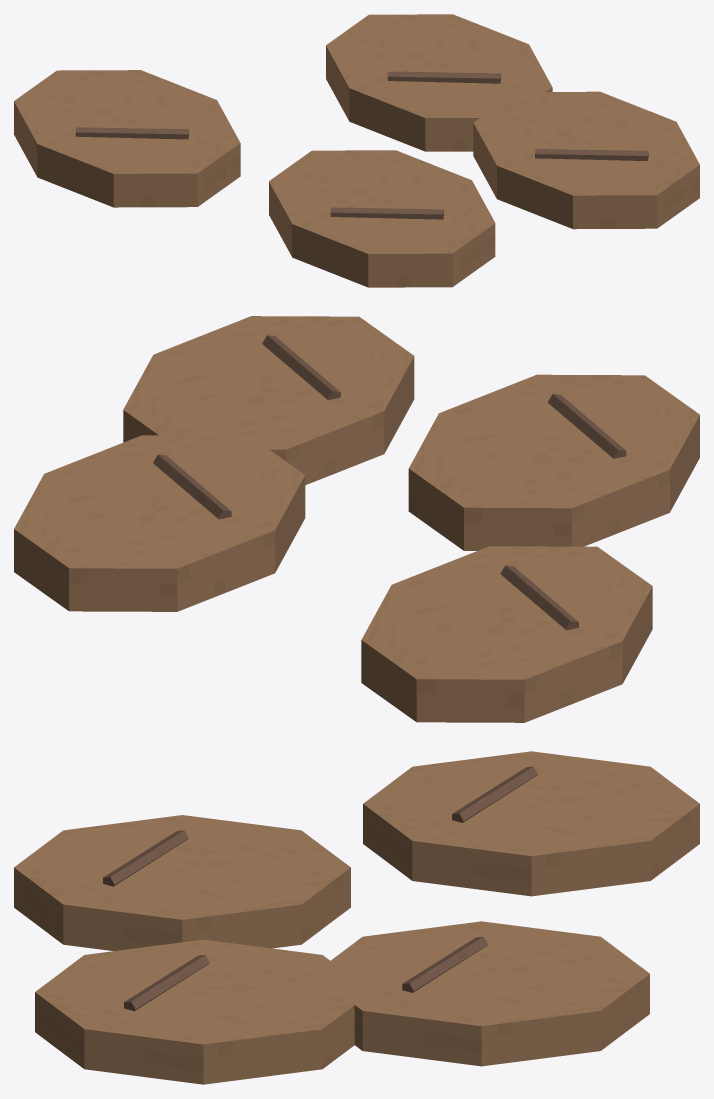
The model's file is dry_mushroom.glb.
3 views of the same model, one above another, from view 1: azimuth 30°, elevation 25°; view 2: azimuth 150°, elevation 25°; view 3: azimuth 270°, elevation 25° (orthographic). The views are drawn at different scales.
Visible parts, largest first — view 1: block_dried mushroom slice (×4), block_dried gill streak 0 (×4); view 2: block_dried mushroom slice (×4), block_dried gill streak 0 (×4); view 3: block_dried mushroom slice (×4), block_dried gill streak 0 (×4).
Boxes of the visible parts, x1=… form: block_dried mushroom slice (×4): x1=14, y1=14, x2=699, y2=287; block_dried gill streak 0 (×4): x1=75, y1=71, x2=648, y2=219; block_dried mushroom slice (×4): x1=14, y1=316, x2=699, y2=722; block_dried gill streak 0 (×4): x1=153, y1=335, x2=626, y2=630; block_dried mushroom slice (×4): x1=14, y1=751, x2=699, y2=1084; block_dried gill streak 0 (×4): x1=103, y1=766, x2=537, y2=1011.
Size of the model in its own units: 0.0556 by 0.00432 by 0.0549.
Materials: 1 (1 with a texture image).
